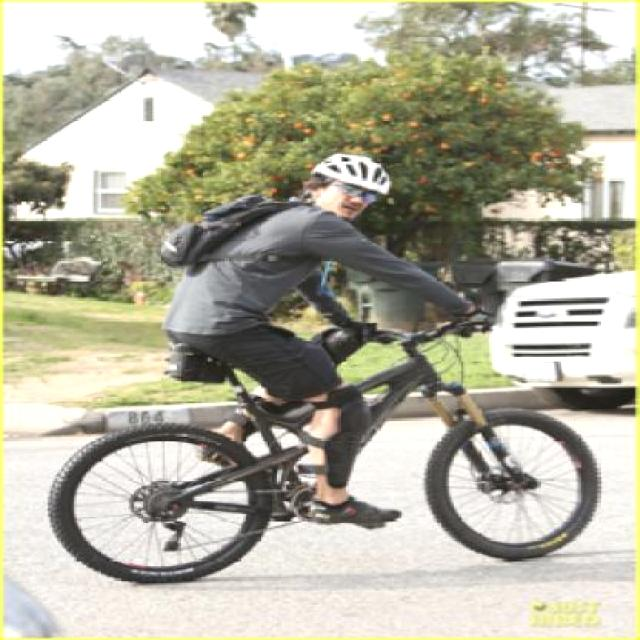With Helmet: (295, 152, 400, 220)
